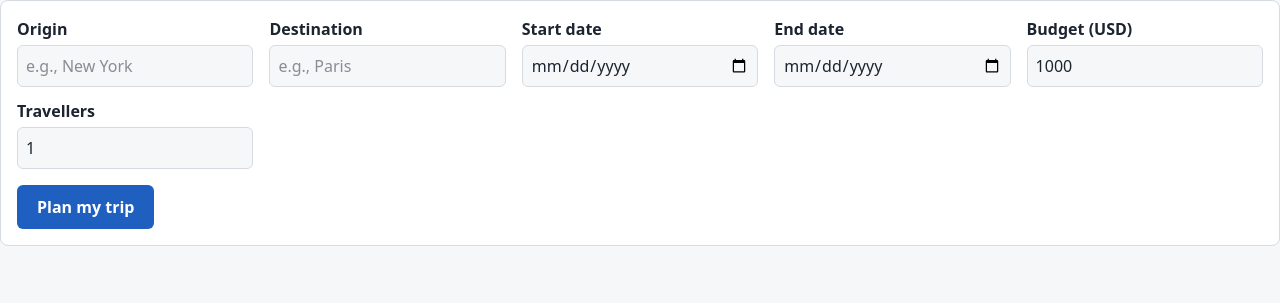
Test: TripForm › warns and does not send when Origin is empty
Type "Manila" into the field labelled "Origin" at (135, 66), box [17, 45, 253, 87]
Type "Tokyo" into the field labelled "Destination" at (388, 66), box [269, 45, 506, 87]
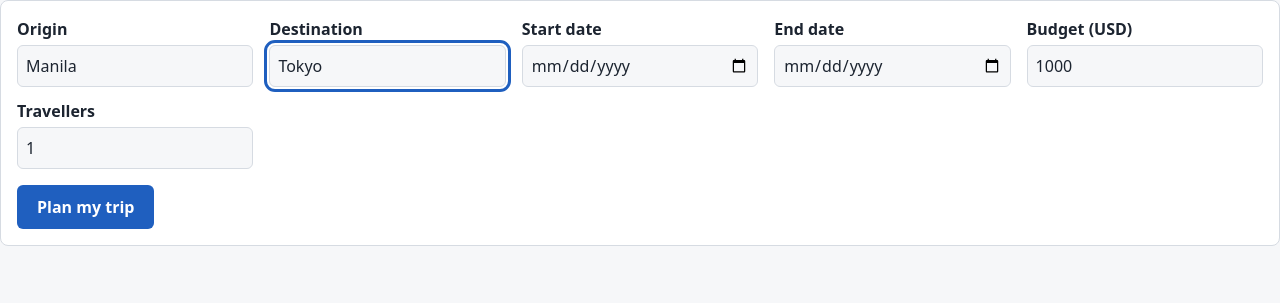
Type "2026-12-01" into the date field labelled "Start date" at (640, 66), box [522, 45, 758, 87]
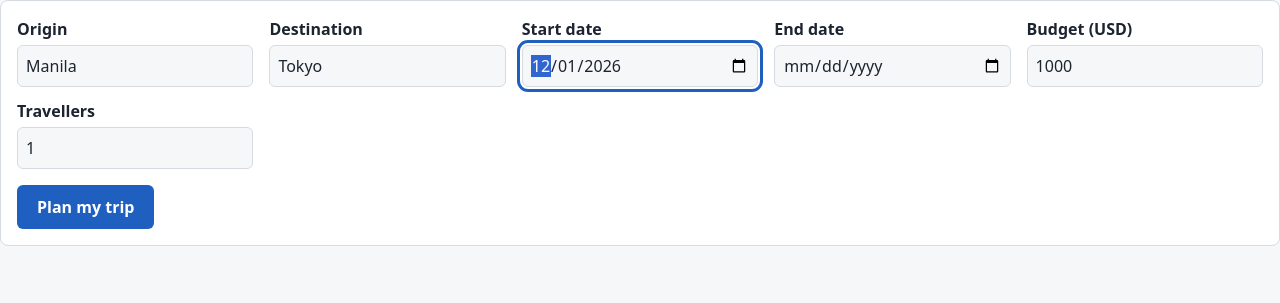
Type "2026-12-06" into the date field labelled "End date" at (892, 66), box [774, 45, 1011, 87]
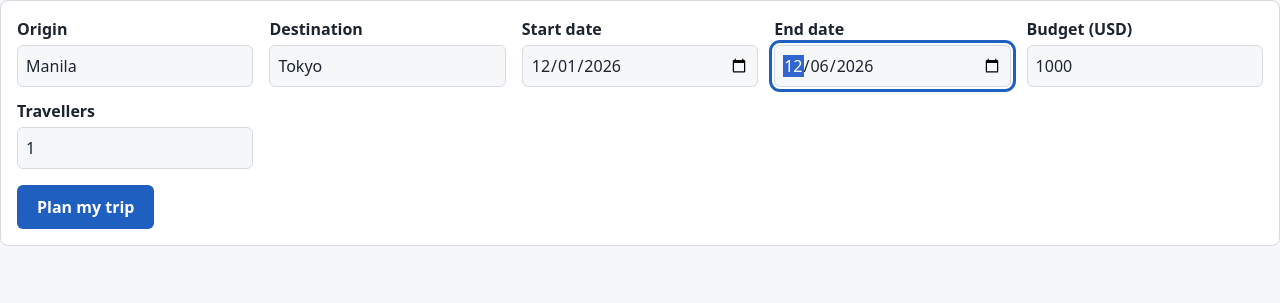
Replace the text in the number field labelled "Budget (USD)" with "1500" at (1145, 66), box [1027, 45, 1263, 87]
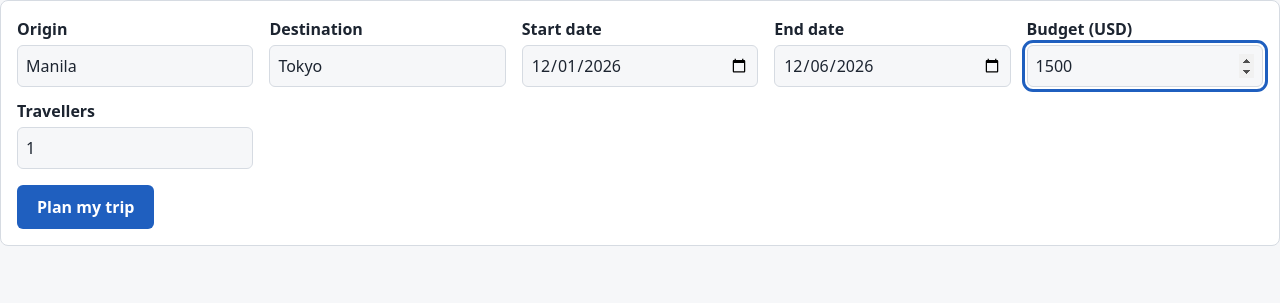
Clear the field labelled "Origin" at (135, 66), box [17, 45, 253, 87]
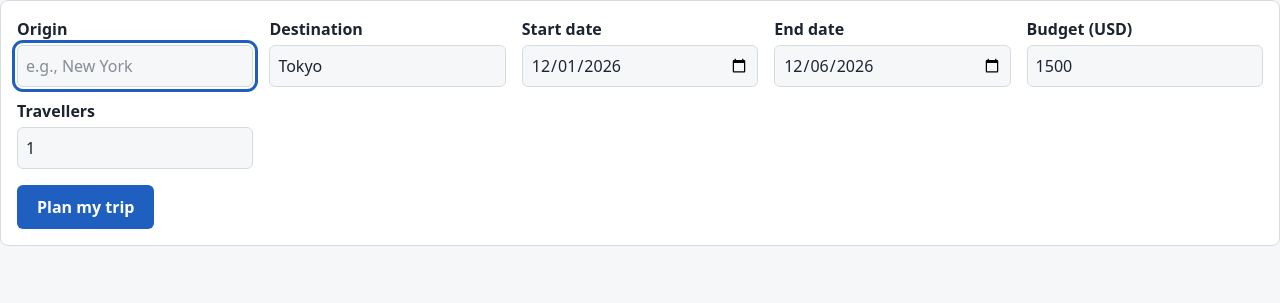
Click the button "Plan my trip" at (86, 207), box [17, 185, 154, 229]
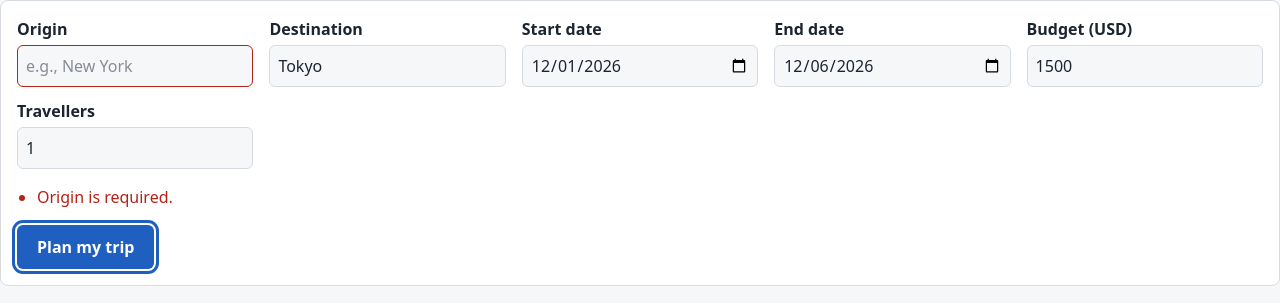
Expected: the message reads "Origin is required.", [37, 186, 173, 208]
